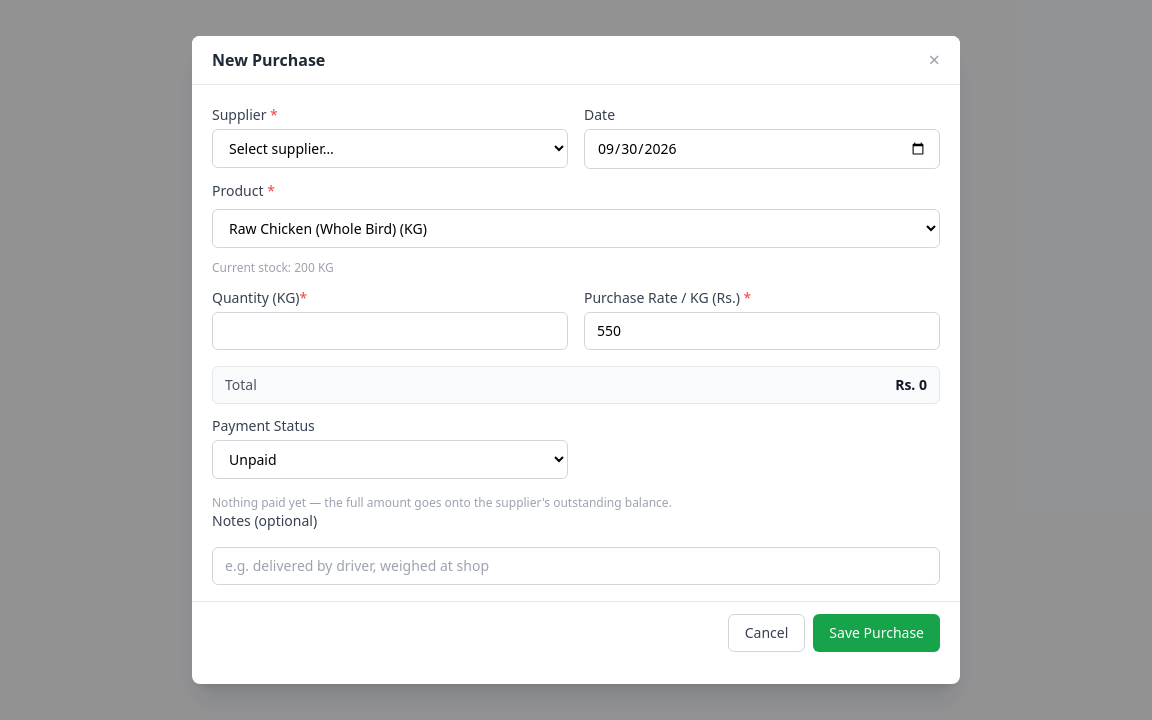
Test case: NewPurchaseModal — Payment Status › Unpaid records nothing paid
The width and height of the screenshot is (1152, 720).
Check: the dropdown named "Product" shows "Raw Chicken (Whole Bird) (KG)", box [212,209,940,248]
Select "Ahmed Live Chicken Supplier" in the dropdown named "Supplier" at (390, 148), box [212,129,568,168]
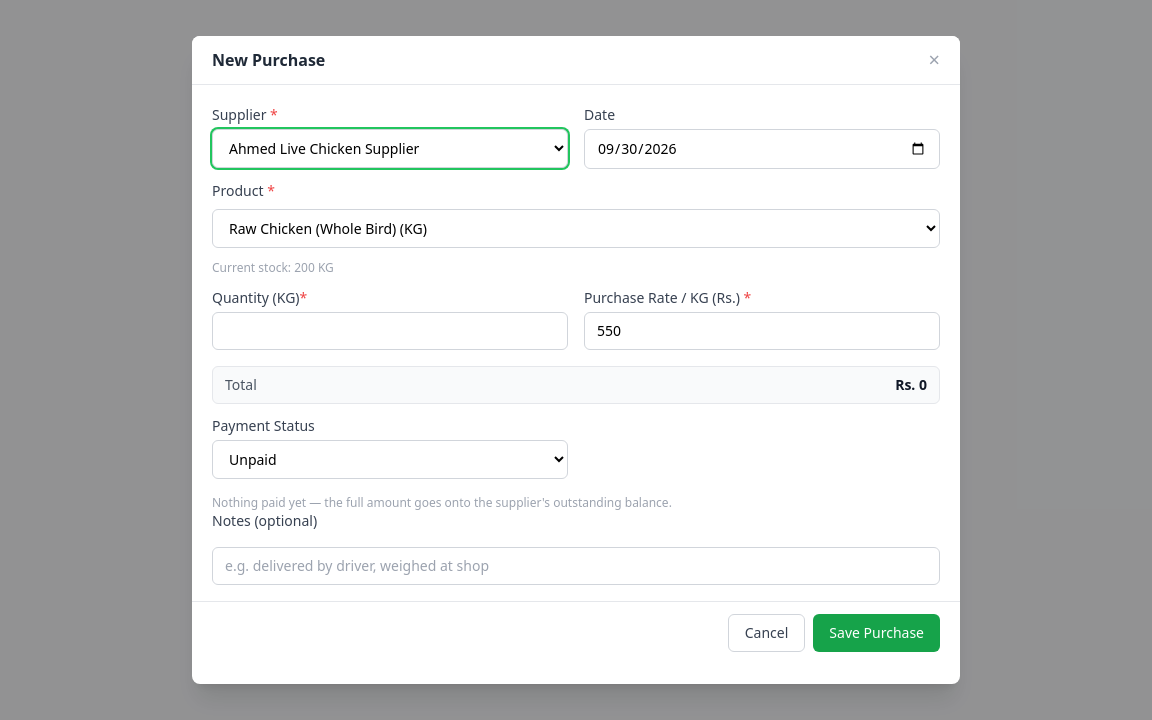
Type "100" into the number field named "Quantity" at (390, 331), box [212,312,568,350]
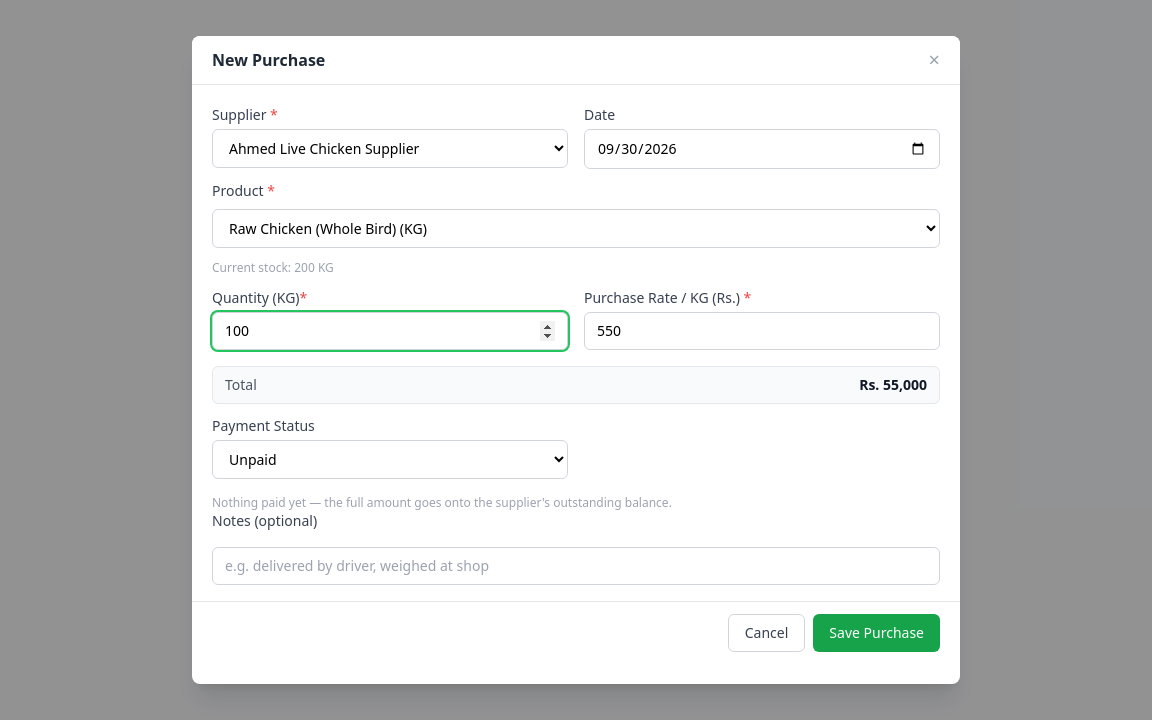
Click the button "Save Purchase" at (877, 633), box [813,614,940,652]
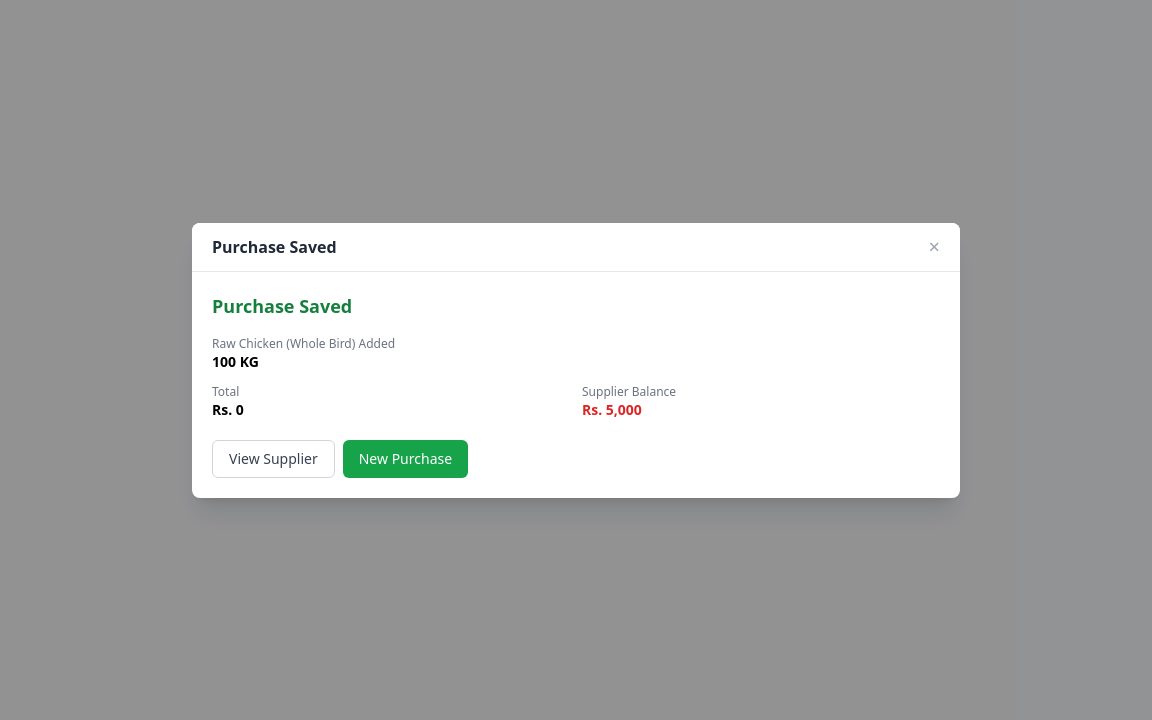
Check: the button "New Purchase" is shown, box [343,440,468,478]
